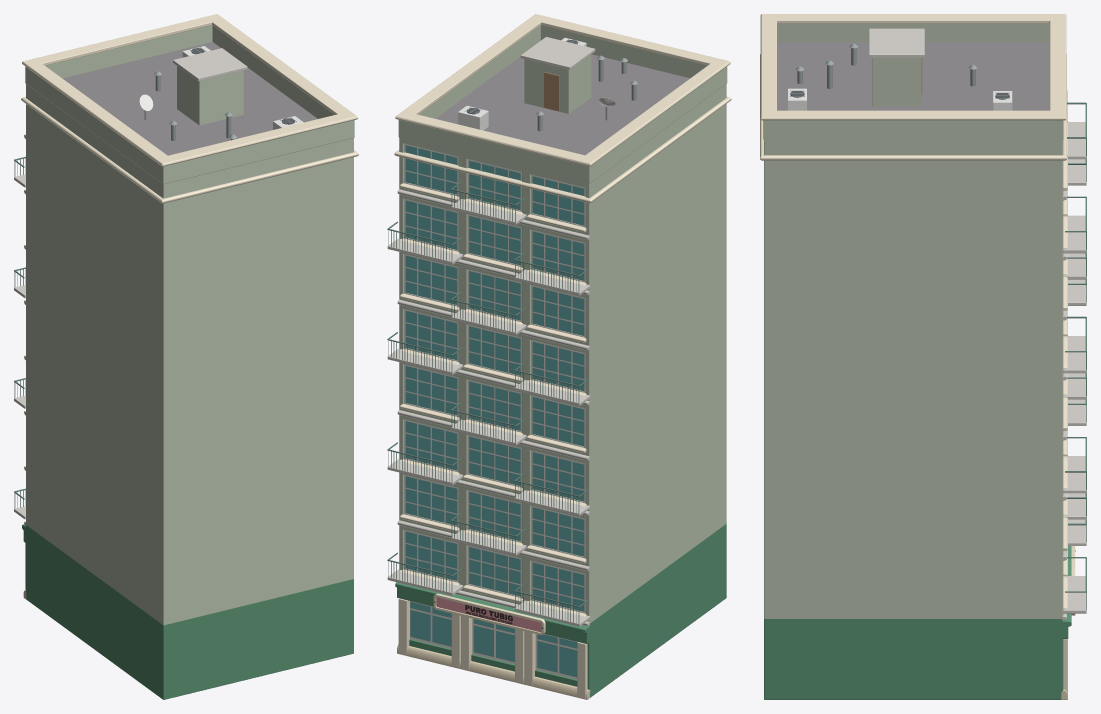
File: far_panel_04.glb
The picture shows the model from 3 angles, left to right: view 1: azimuth 30°, elevation 25°; view 2: azimuth 150°, elevation 25°; view 3: azimuth 270°, elevation 25°; orthographic projection. The views are drawn at different scales.
Visible parts, largest first — view 1: shell, trim, props; view 2: shell, trim, props, frames, sign_puro_tubig; view 3: shell, trim, props.
Part boxes in pixels (bbox=[...]): shell: bbox=[26, 42, 353, 699]; trim: bbox=[21, 14, 358, 599]; props: bbox=[14, 46, 303, 519]; shell: bbox=[399, 54, 726, 697]; trim: bbox=[394, 14, 731, 699]; props: bbox=[387, 37, 637, 626]; frames: bbox=[404, 143, 585, 679]; sign_puro_tubig: bbox=[433, 593, 545, 635]; shell: bbox=[764, 42, 1063, 699]; trim: bbox=[760, 14, 1071, 699]; props: bbox=[788, 28, 1086, 613].
Size of the model in its own units: 11.56 by 31.72 by 15.29.
